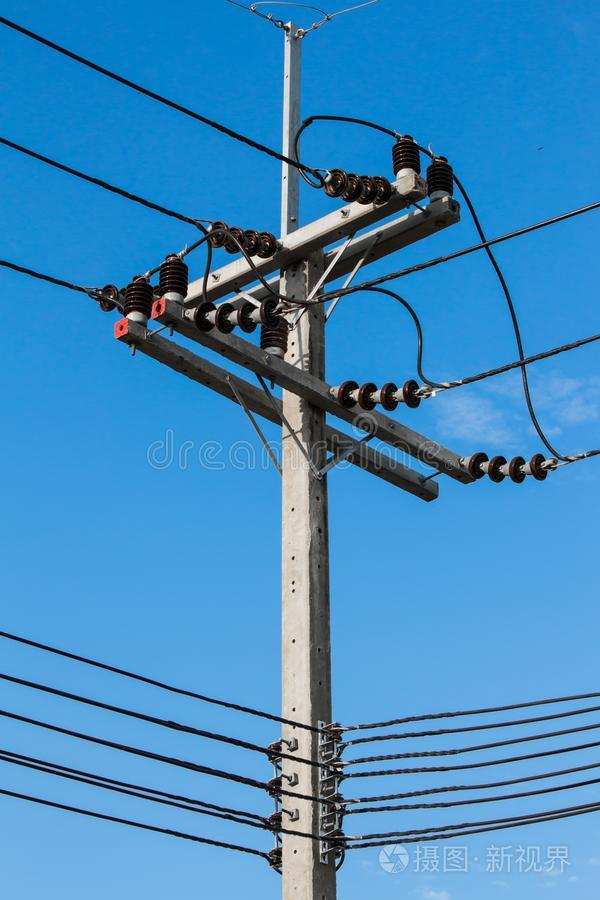insulator: (189, 298, 279, 334), (462, 448, 547, 486), (336, 377, 422, 413), (319, 168, 390, 207), (203, 222, 274, 259)
